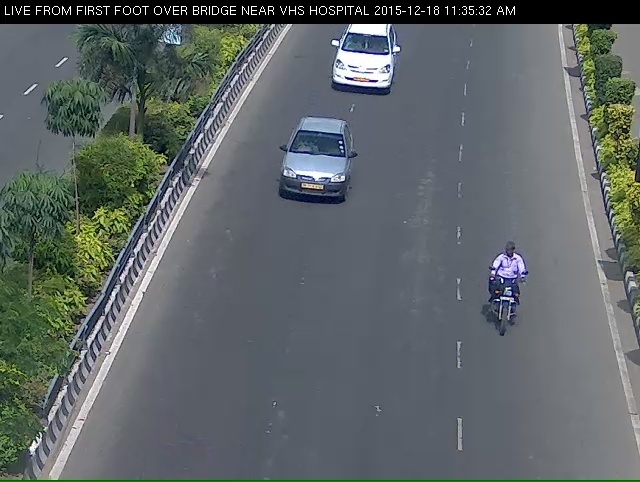Car: (270, 120, 362, 228), (326, 21, 398, 108)
Person: (479, 258, 533, 358)
